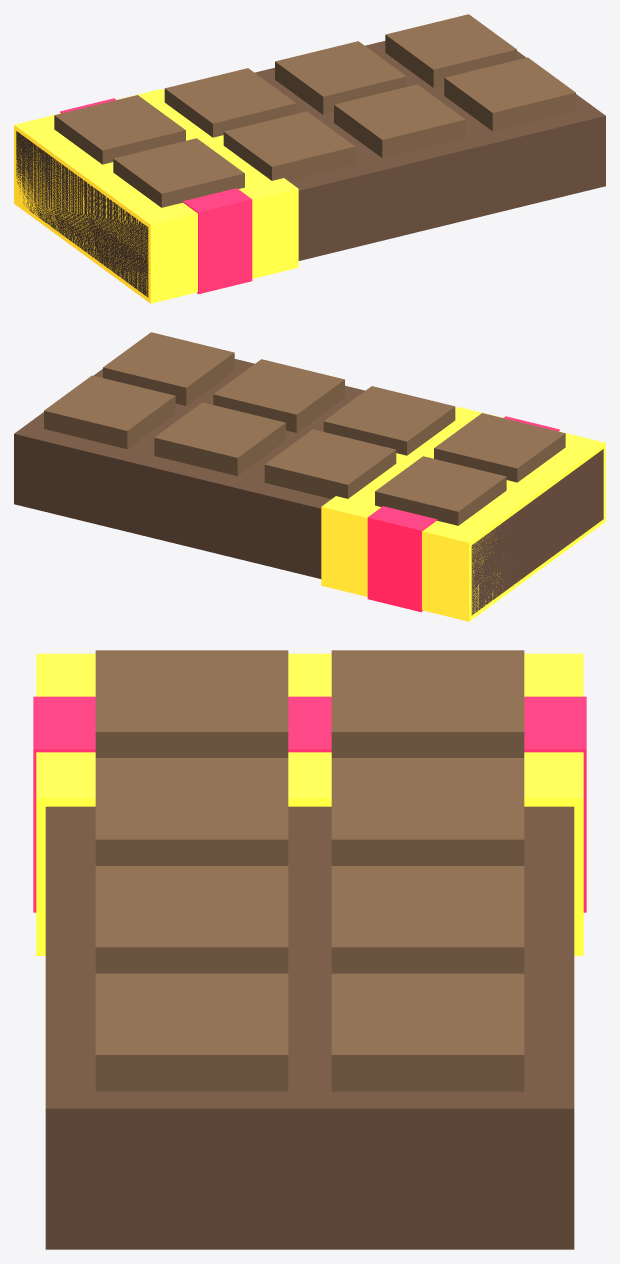
File: chocolate.glb
3 renders of one model, top to bottom at view 1: azimuth 30°, elevation 25°; view 2: azimuth 150°, elevation 25°; view 3: azimuth 270°, elevation 25°, orthographic. The views are drawn at different scales.
Visible parts, largest first — view 1: chocolate_Mesh; view 2: chocolate_Mesh; view 3: chocolate_Mesh.
Boxes of the visible parts, x1=… form: chocolate_Mesh: x1=14, y1=14, x2=605, y2=303; chocolate_Mesh: x1=14, y1=332, x2=605, y2=621; chocolate_Mesh: x1=33, y1=650, x2=586, y2=1249.
Size of the model in its own units: 0.34 by 0.067 by 0.178.
